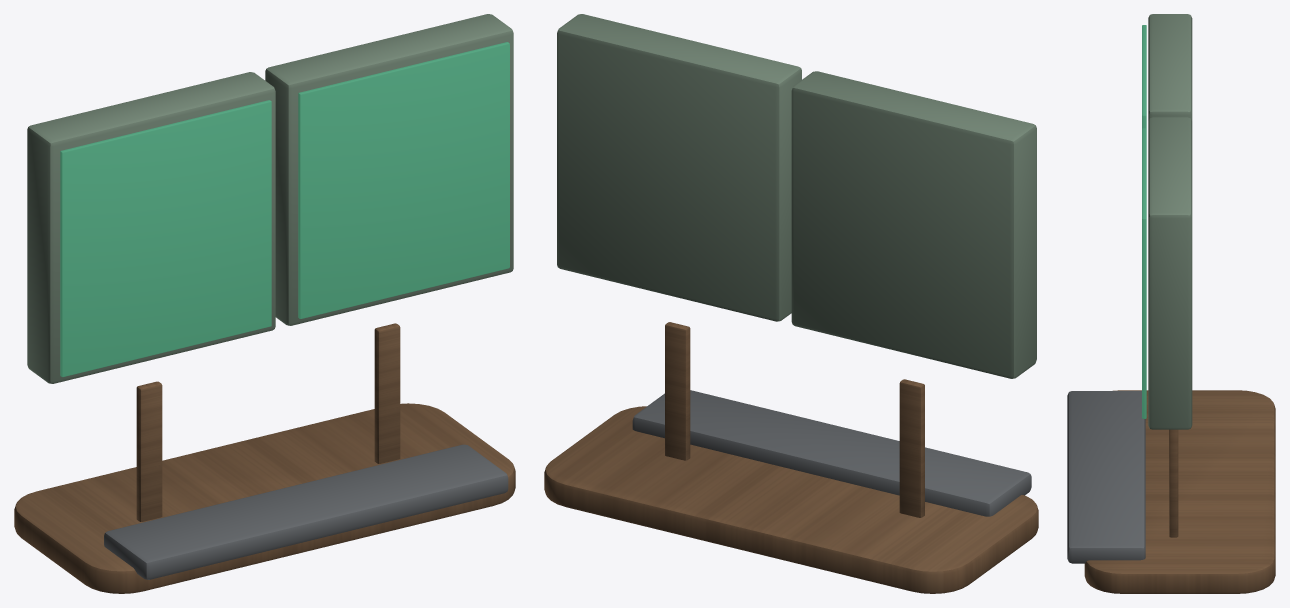
The model's file is computer_high_end.glb.
The picture shows the model from 3 angles, left to right: view 1: azimuth 30°, elevation 25°; view 2: azimuth 150°, elevation 25°; view 3: azimuth 270°, elevation 25°; orthographic projection. The views are drawn at different scales.
Visible parts, largest first — view 1: Computer_Monitor_1_Screen, Computer_Monitor_2_Screen, Computer_Base, Computer_Keyboard, Computer_Monitor_1_Back, Computer_Monitor_2_Back, Computer_Monitor_2_Stem, Computer_Monitor_1_Stem; view 2: Computer_Monitor_1_Back, Computer_Monitor_2_Back, Computer_Base, Computer_Keyboard, Computer_Monitor_2_Stem, Computer_Monitor_1_Stem; view 3: Computer_Base, Computer_Monitor_2_Back, Computer_Keyboard, Computer_Monitor_1_Back, Computer_Monitor_2_Screen, Computer_Monitor_2_Stem, Computer_Monitor_1_Screen.
Boxes of the visible parts, bbox=[...] form: Computer_Monitor_1_Screen: bbox=[60, 100, 271, 376]; Computer_Monitor_2_Screen: bbox=[298, 42, 509, 318]; Computer_Base: bbox=[14, 403, 515, 593]; Computer_Keyboard: bbox=[104, 444, 508, 579]; Computer_Monitor_1_Back: bbox=[27, 72, 275, 383]; Computer_Monitor_2_Back: bbox=[265, 14, 513, 325]; Computer_Monitor_2_Stem: bbox=[374, 323, 400, 463]; Computer_Monitor_1_Stem: bbox=[136, 381, 162, 521]; Computer_Monitor_1_Back: bbox=[791, 71, 1036, 378]; Computer_Monitor_2_Back: bbox=[557, 14, 801, 321]; Computer_Base: bbox=[544, 406, 1038, 593]; Computer_Keyboard: bbox=[632, 390, 1031, 516]; Computer_Monitor_2_Stem: bbox=[665, 322, 690, 460]; Computer_Monitor_1_Stem: bbox=[899, 379, 924, 517]; Computer_Base: bbox=[1084, 390, 1275, 593]; Computer_Monitor_2_Back: bbox=[1148, 117, 1192, 429]; Computer_Keyboard: bbox=[1067, 391, 1145, 563]; Computer_Monitor_1_Back: bbox=[1148, 14, 1192, 120]; Computer_Monitor_2_Screen: bbox=[1142, 128, 1146, 418]; Computer_Monitor_2_Stem: bbox=[1169, 429, 1178, 537]; Computer_Monitor_1_Screen: bbox=[1142, 25, 1146, 128].
Size of what is drawn, in the model's own units: 0.6256 by 0.5623 by 0.272.
Materials: 4 (1 with a texture image).
